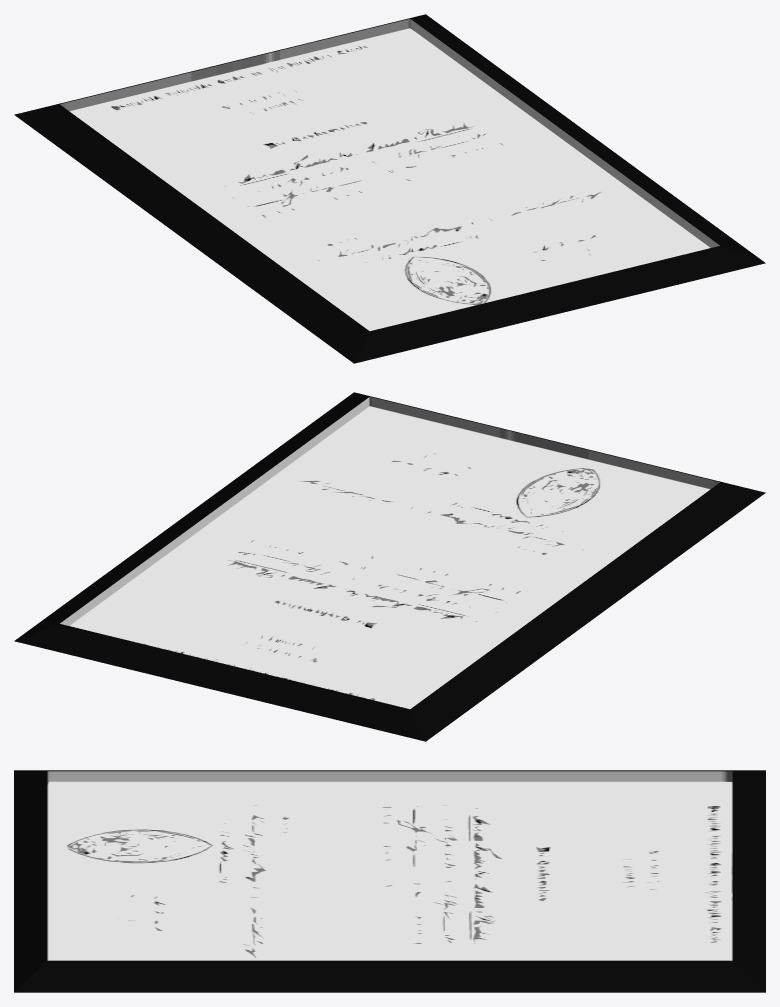
The model's file is Zertifikat.FBX.
The picture shows the model from 3 angles, top to bottom: view 1: azimuth 30°, elevation 25°; view 2: azimuth 150°, elevation 25°; view 3: azimuth 270°, elevation 25°; orthographic projection. The views are drawn at different scales.
Visible parts, largest first — view 1: Box001; view 2: Box001; view 3: Box001.
Boxes of the visible parts, x1,y1,x2,y2 form: Box001: (14,14,765,363); Box001: (14,392,765,741); Box001: (14,770,765,992).
Bounding box in the file's own units: 56.38 × 1.83 × 80.65.
Materials: 6 (1 with a texture image).
